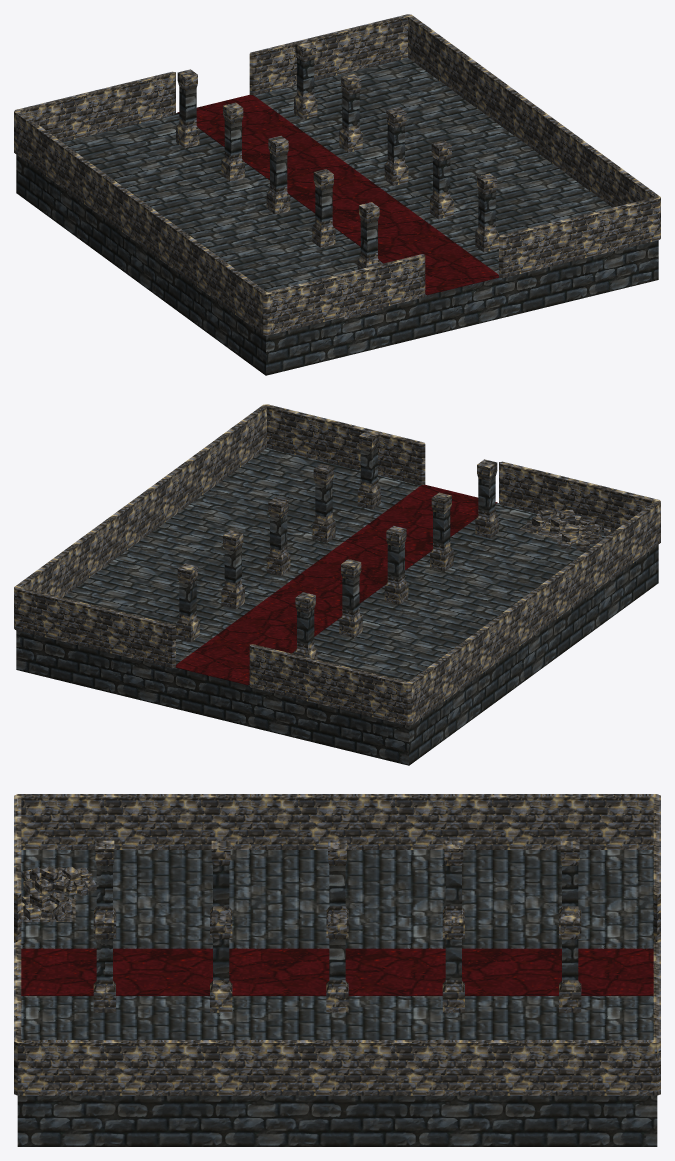
Rendered from room-2door.glb.
3 renders of one model, top to bottom at view 1: azimuth 30°, elevation 25°; view 2: azimuth 150°, elevation 25°; view 3: azimuth 270°, elevation 25°, orthographic. The views are drawn at different scales.
Parts seen in each view (by area): view 1: floor (×36), wall (×30), column (×10), porch_floorCenter, wall_corner (×4); view 2: floor (×34), wall (×30), column (×10), porch_floorCenter, wall_corner (×4), debris_stone (×2); view 3: floor (×31), wall (×20), porch_floorCenter, column (×10), wall_corner (×4), debris_stone (×2).
Part boxes in pixels (box(x1,y1,x2,y2)): floor (×36): box(16, 58, 658, 375); wall (×30): box(36, 24, 637, 325); column (×10): box(176, 40, 498, 269); porch_floorCenter: box(177, 94, 498, 295); wall_corner (×4): box(14, 14, 660, 335); floor (×34): box(16, 448, 658, 765); wall (×30): box(36, 414, 638, 715); column (×10): box(176, 430, 498, 659); porch_floorCenter: box(176, 484, 497, 685); wall_corner (×4): box(14, 404, 660, 725); debris_stone (×2): box(546, 509, 601, 550); floor (×31): box(17, 850, 657, 1146); wall (×20): box(14, 794, 660, 1095); porch_floorCenter: box(21, 948, 653, 995); column (×10): box(93, 840, 581, 1012); wall_corner (×4): box(14, 794, 660, 1095); debris_stone (×2): box(21, 866, 84, 920).
Bounding box in the file's own units: 10.13 × 2.7 × 11.13.
Materials: 137 (137 with a texture image).
